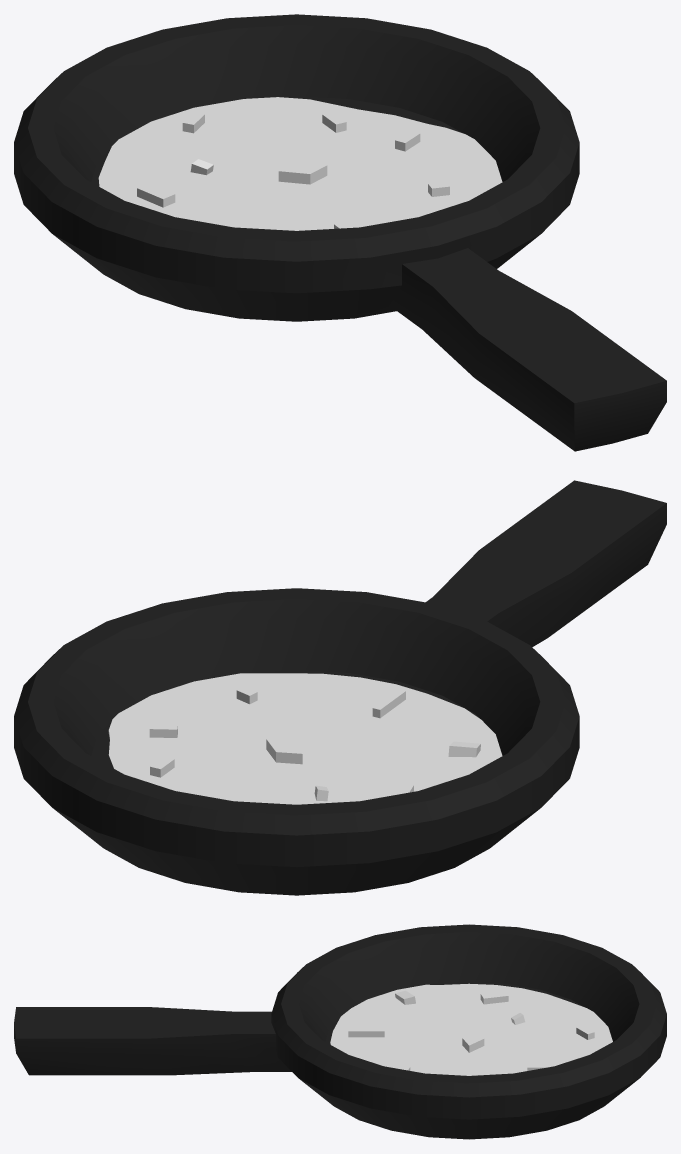
File: Pan2.fbx
The picture shows the model from 3 angles, top to bottom: view 1: azimuth 30°, elevation 25°; view 2: azimuth 150°, elevation 25°; view 3: azimuth 270°, elevation 25°; orthographic projection. The views are drawn at different scales.
Visible parts, largest first — view 1: Environment_Pan, Cylinder; view 2: Environment_Pan, Cylinder; view 3: Environment_Pan, Cylinder.
Part boxes in pixels (x1,y1,x2,y2): Environment_Pan: (14, 14, 666, 451); Cylinder: (98, 97, 502, 230); Environment_Pan: (14, 480, 666, 895); Cylinder: (108, 673, 502, 804); Environment_Pan: (14, 924, 666, 1139); Cylinder: (330, 983, 612, 1075).
Bounding box in the file's own units: 125 × 24.28 × 207.
